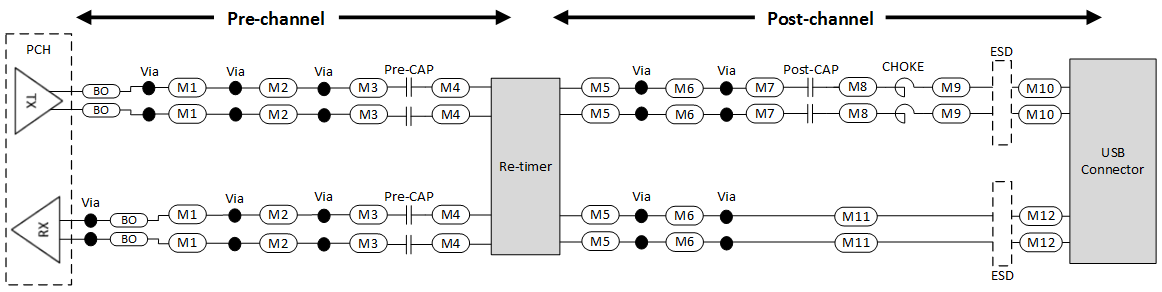capacitor: (402, 231, 417, 258), (803, 76, 818, 100), (403, 77, 416, 99), (804, 101, 815, 126), (404, 103, 414, 129), (404, 203, 414, 227)
choke: (892, 100, 919, 128), (892, 76, 918, 99)
circle: (137, 105, 157, 126), (313, 234, 333, 255), (717, 232, 736, 254), (632, 231, 650, 253), (718, 102, 735, 125), (314, 205, 332, 225), (139, 79, 158, 97), (81, 210, 99, 229), (81, 230, 100, 248), (633, 102, 650, 122), (228, 105, 245, 125), (717, 80, 735, 98), (226, 207, 244, 225), (718, 209, 735, 227), (316, 105, 333, 123), (633, 205, 649, 224), (226, 234, 242, 253), (633, 78, 648, 98), (315, 80, 332, 97), (227, 79, 242, 97)
dotted_rectangle: (3, 27, 75, 292), (989, 179, 1016, 267), (989, 58, 1015, 149)
oval: (832, 229, 883, 256), (576, 198, 624, 226), (578, 227, 626, 255), (831, 201, 878, 228), (345, 230, 391, 257), (257, 230, 302, 257), (838, 99, 880, 127), (345, 202, 392, 227), (1018, 228, 1062, 254), (579, 101, 623, 127), (1012, 103, 1063, 125), (662, 200, 705, 226), (430, 201, 473, 227), (662, 74, 706, 99), (931, 102, 973, 128), (663, 229, 705, 255), (346, 103, 391, 127), (257, 202, 302, 226), (430, 231, 473, 256), (166, 75, 210, 99), (258, 102, 300, 127), (167, 203, 212, 226), (1015, 203, 1062, 225), (166, 230, 209, 254), (1017, 77, 1063, 99), (167, 100, 209, 124), (743, 77, 787, 99), (663, 104, 705, 127), (743, 101, 785, 124), (579, 75, 620, 98), (347, 77, 389, 99), (258, 76, 300, 98), (836, 75, 877, 97), (430, 77, 471, 99), (930, 77, 968, 100), (109, 229, 150, 249), (431, 104, 469, 125), (81, 102, 125, 119), (109, 210, 150, 228), (82, 81, 121, 98)
rectangle: (1064, 57, 1158, 266), (486, 74, 564, 258)
triangle: (8, 192, 64, 268), (12, 63, 63, 137)
